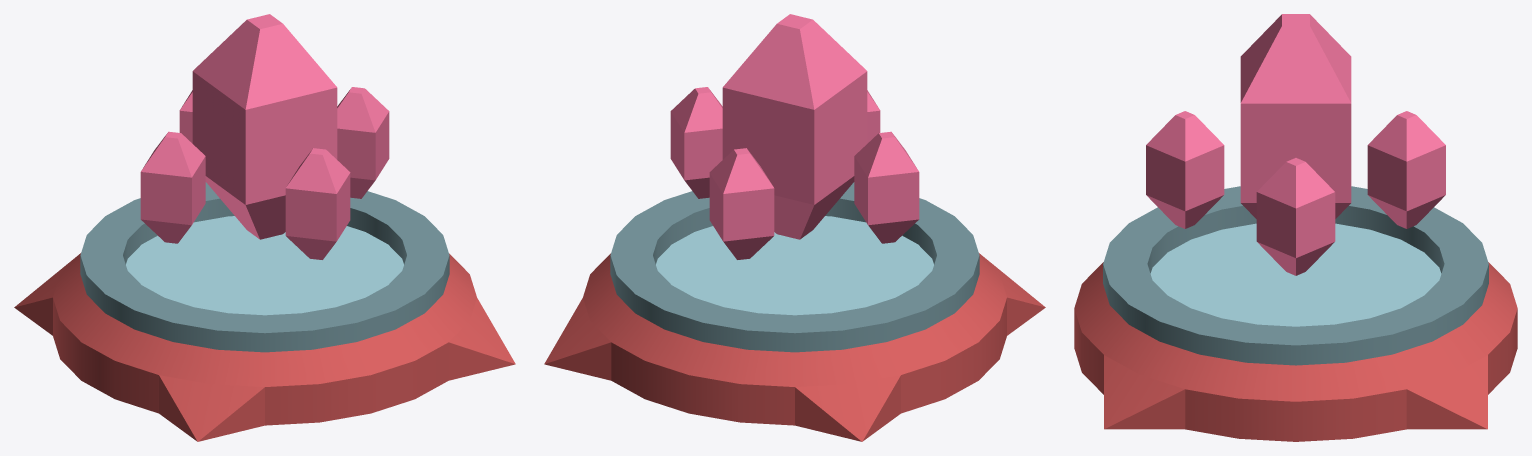
Rendered from towerround_crystals.fbx.
The picture shows the model from 3 angles, left to right: view 1: azimuth 30°, elevation 25°; view 2: azimuth 150°, elevation 25°; view 3: azimuth 270°, elevation 25°; orthographic projection. The views are drawn at different scales.
Parts seen in each view (by area): view 1: towerRound_crystals, crystal (×5); view 2: towerRound_crystals, crystal (×5); view 3: towerRound_crystals, crystal (×4).
Part boxes in pixels (x1,y1,x2,y2): towerRound_crystals: (14, 182, 515, 441); crystal (×5): (140, 14, 389, 259); towerRound_crystals: (544, 182, 1045, 441); crystal (×5): (670, 14, 919, 259); towerRound_crystals: (1074, 186, 1517, 441); crystal (×4): (1146, 14, 1445, 275).
Size of the model in its own units: 10 by 8.18 by 10.
